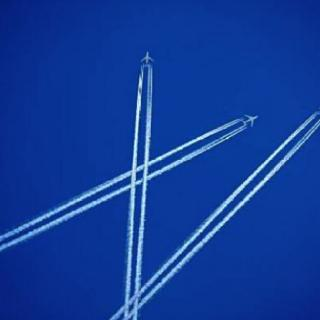Contrails: (0, 75, 241, 318)
